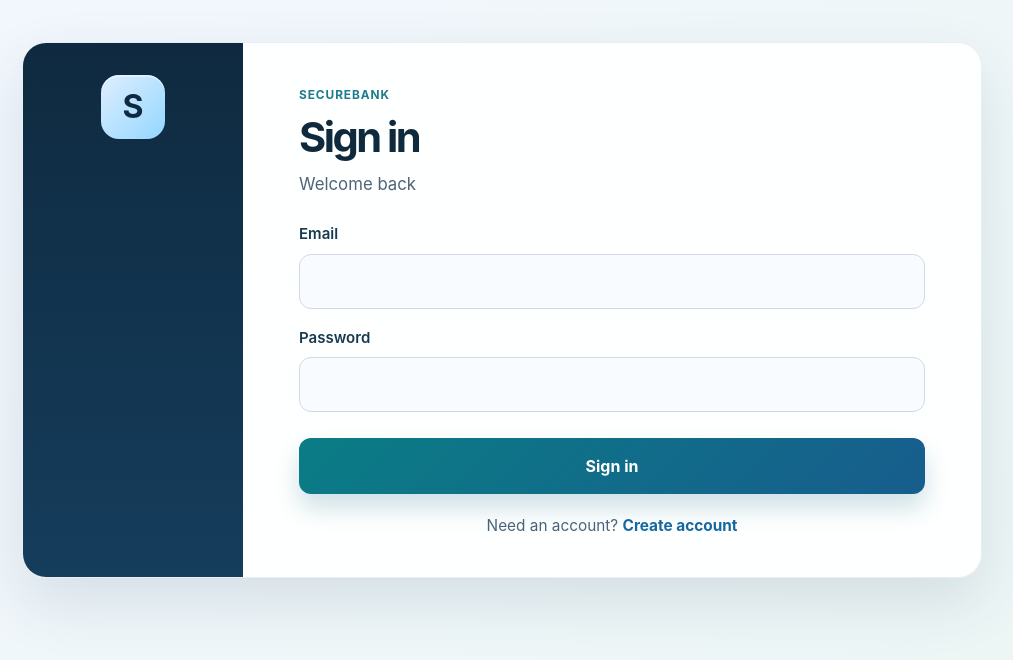
Test: Signup screen › shows validation errors on the sign-in screen when fields are empty
Click the button "Sign in" at (612, 466), box [299, 438, 925, 494]
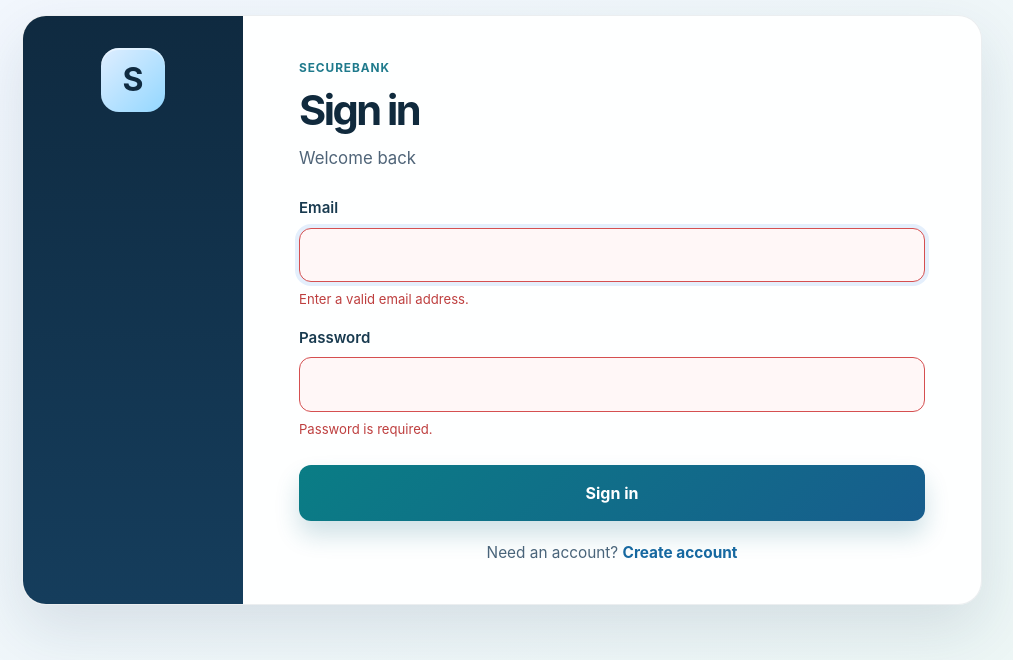
Expected: the text "Enter a valid email address." is shown, [299, 292, 469, 308]
Expected: the text "Password is required." is shown, [299, 421, 433, 437]
